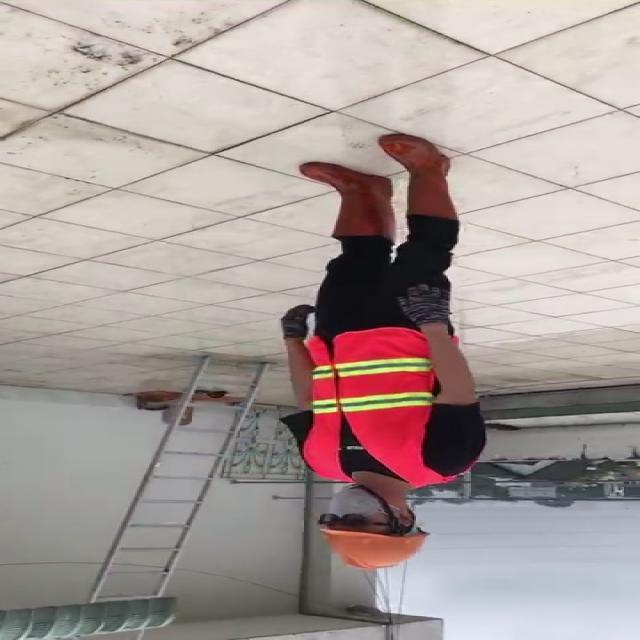Boots: (303, 163, 397, 240), (377, 134, 460, 218)
Gloves: (397, 283, 457, 327), (279, 306, 318, 341)
Helmet: (315, 528, 430, 572)
Vest: (302, 331, 460, 483)
